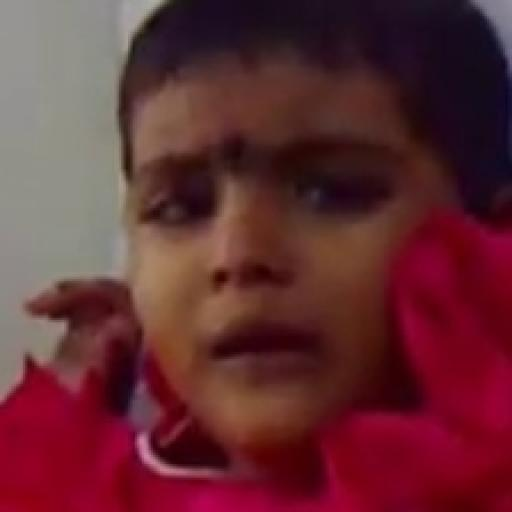Autism: (79, 0, 512, 468)
